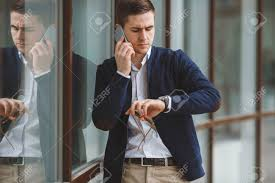F_M_suit jacket: (91, 49, 225, 183)
F_belt: (117, 151, 190, 171)
